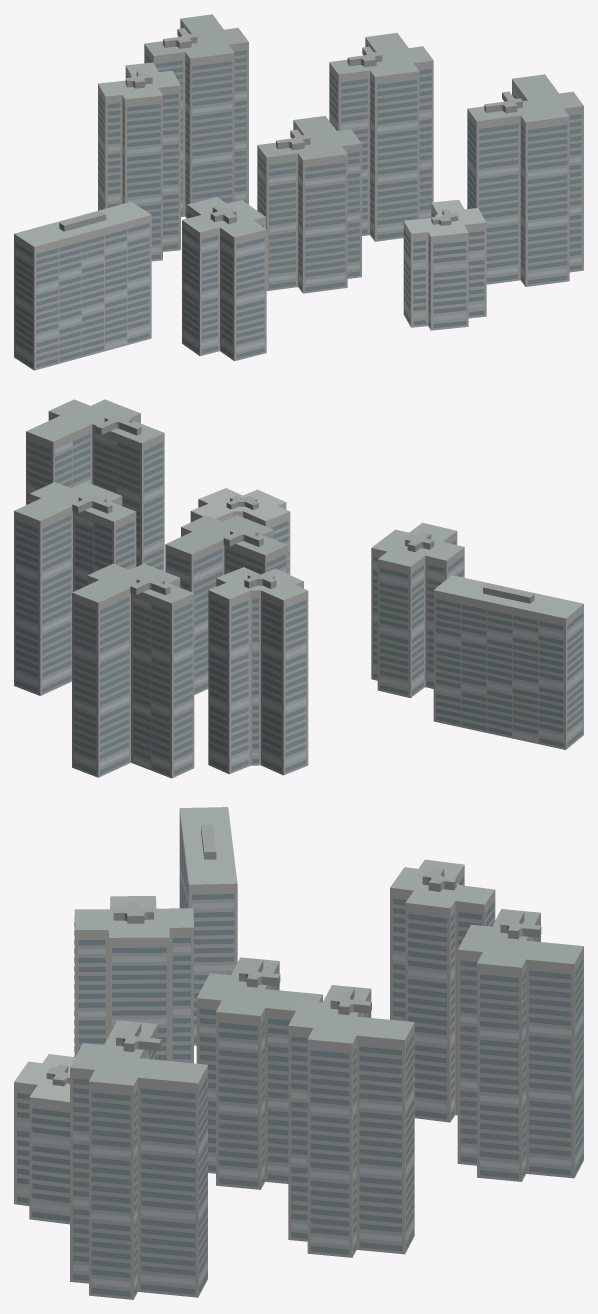
The model's file is apt-a13679403.glb.
3 renders of one model, top to bottom at view 1: azimuth 30°, elevation 25°; view 2: azimuth 150°, elevation 25°; view 3: azimuth 270°, elevation 25°, orthographic. The views are drawn at different scales.
Parts seen in each view (by area): view 1: apt-a13679403; view 2: apt-a13679403; view 3: apt-a13679403.
Part boxes in pixels (left/top/right/bottom): apt-a13679403: left=14, top=14, right=583, bottom=370; apt-a13679403: left=14, top=399, right=583, bottom=778; apt-a13679403: left=14, top=807, right=583, bottom=1299.
Size of the model in its own units: 211 by 66 by 153.
